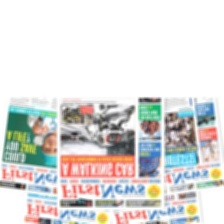news_paper: (55, 91, 167, 211), (152, 91, 224, 195), (0, 93, 68, 199), (109, 173, 205, 223), (18, 188, 116, 224)
